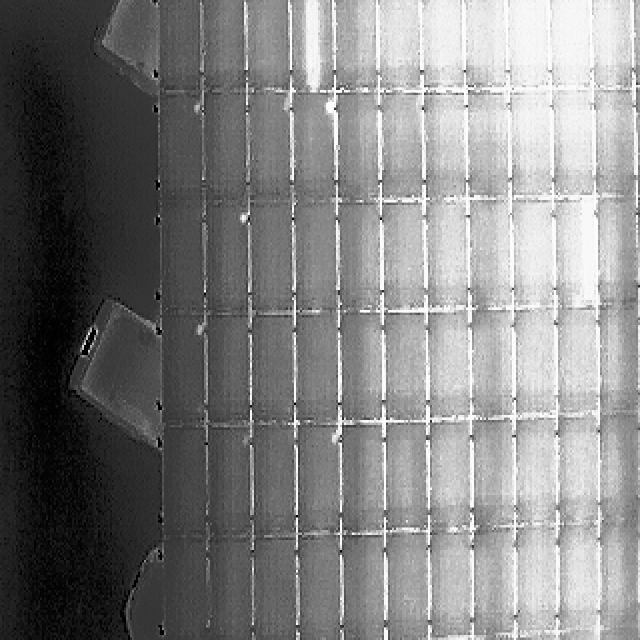Hotspots: (319, 88, 348, 116), (236, 210, 249, 230), (239, 434, 252, 452), (191, 103, 205, 119), (282, 96, 294, 114), (194, 323, 205, 340), (329, 432, 339, 449)
PV-modules: (201, 92, 253, 212), (242, 89, 294, 208), (157, 87, 207, 209), (290, 203, 341, 316), (163, 424, 210, 546), (158, 209, 210, 318), (340, 423, 388, 537), (340, 423, 388, 537), (162, 534, 212, 640), (252, 422, 297, 538), (164, 312, 209, 428), (249, 313, 296, 424), (339, 312, 386, 422), (553, 201, 599, 313), (296, 312, 342, 424), (248, 204, 294, 316), (294, 91, 338, 208), (517, 525, 562, 639), (422, 200, 467, 314), (558, 526, 603, 640), (207, 425, 250, 544), (338, 202, 383, 315), (469, 200, 514, 312), (469, 200, 514, 312), (336, 93, 381, 204), (549, 89, 594, 200), (424, 310, 469, 421), (471, 419, 515, 532), (471, 419, 515, 532), (298, 423, 342, 536), (205, 313, 249, 426), (208, 205, 250, 323), (380, 92, 425, 202), (421, 92, 466, 202), (426, 421, 470, 533), (518, 418, 562, 530), (596, 89, 640, 201), (154, 0, 204, 98), (337, 538, 385, 640), (386, 311, 430, 422), (385, 201, 428, 314), (388, 421, 431, 534), (598, 302, 640, 416), (205, 536, 251, 640), (513, 89, 556, 200), (468, 92, 512, 200), (596, 201, 640, 309), (470, 311, 514, 418), (470, 311, 514, 418), (388, 533, 432, 640), (516, 309, 560, 416), (516, 200, 558, 312), (600, 523, 640, 639), (298, 535, 342, 640), (429, 533, 472, 640), (473, 533, 516, 640), (556, 308, 598, 417), (244, 0, 292, 95), (244, 0, 292, 95), (559, 418, 598, 532), (254, 539, 298, 640), (600, 417, 640, 527), (332, 0, 378, 95), (332, 0, 378, 95), (200, 0, 244, 98), (592, 0, 638, 92), (418, 0, 462, 95), (418, 0, 462, 95), (376, 0, 420, 95), (506, 0, 550, 92), (290, 0, 332, 92), (548, 0, 590, 90), (466, 0, 506, 92), (628, 0, 638, 90)
